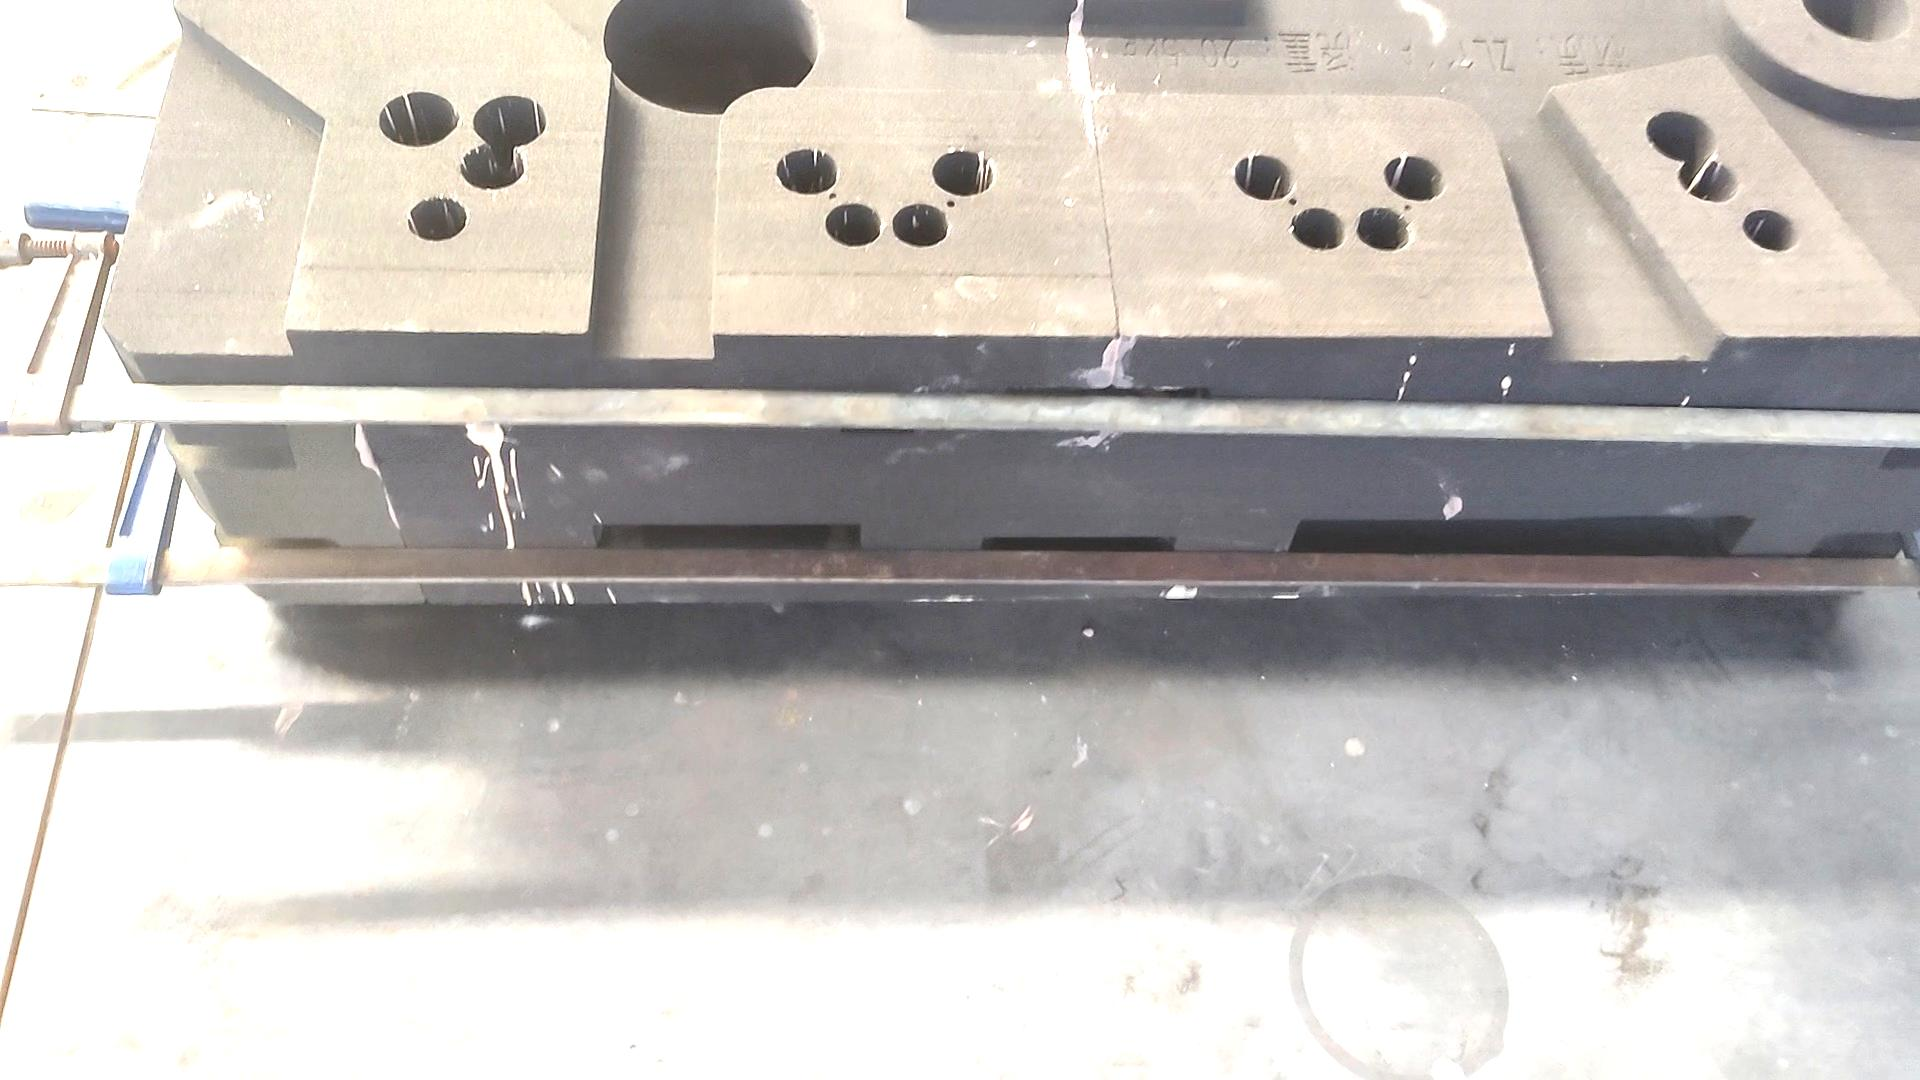pouring hole: (1803, 1, 1912, 45)
